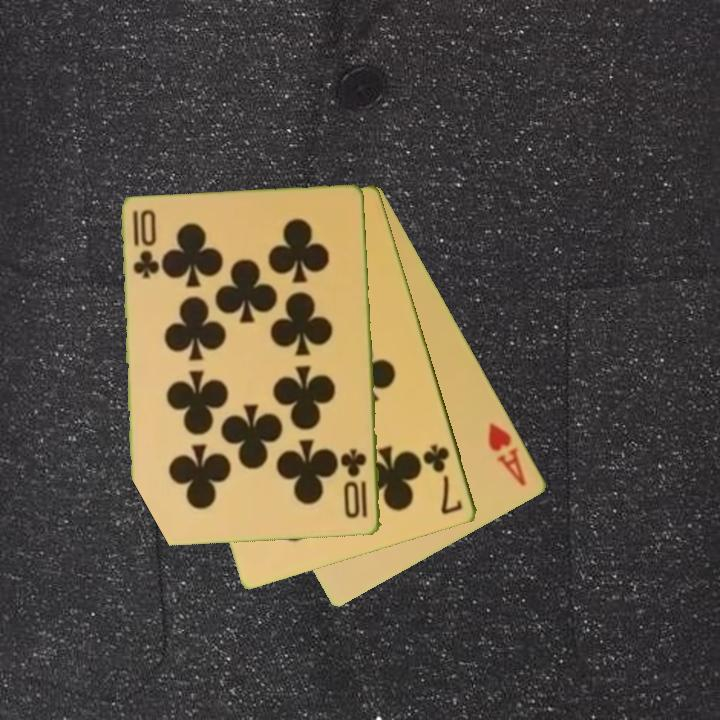10c: (339, 446, 371, 522), (130, 206, 158, 282)
7c: (420, 441, 466, 518)
Ah: (484, 418, 530, 489)
